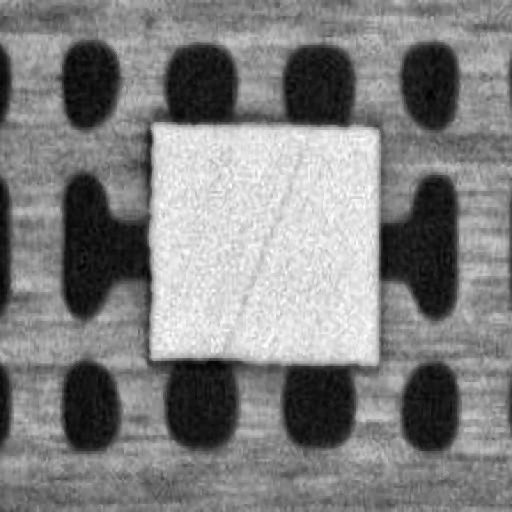DIE_CRACK: (220, 125, 308, 353)
